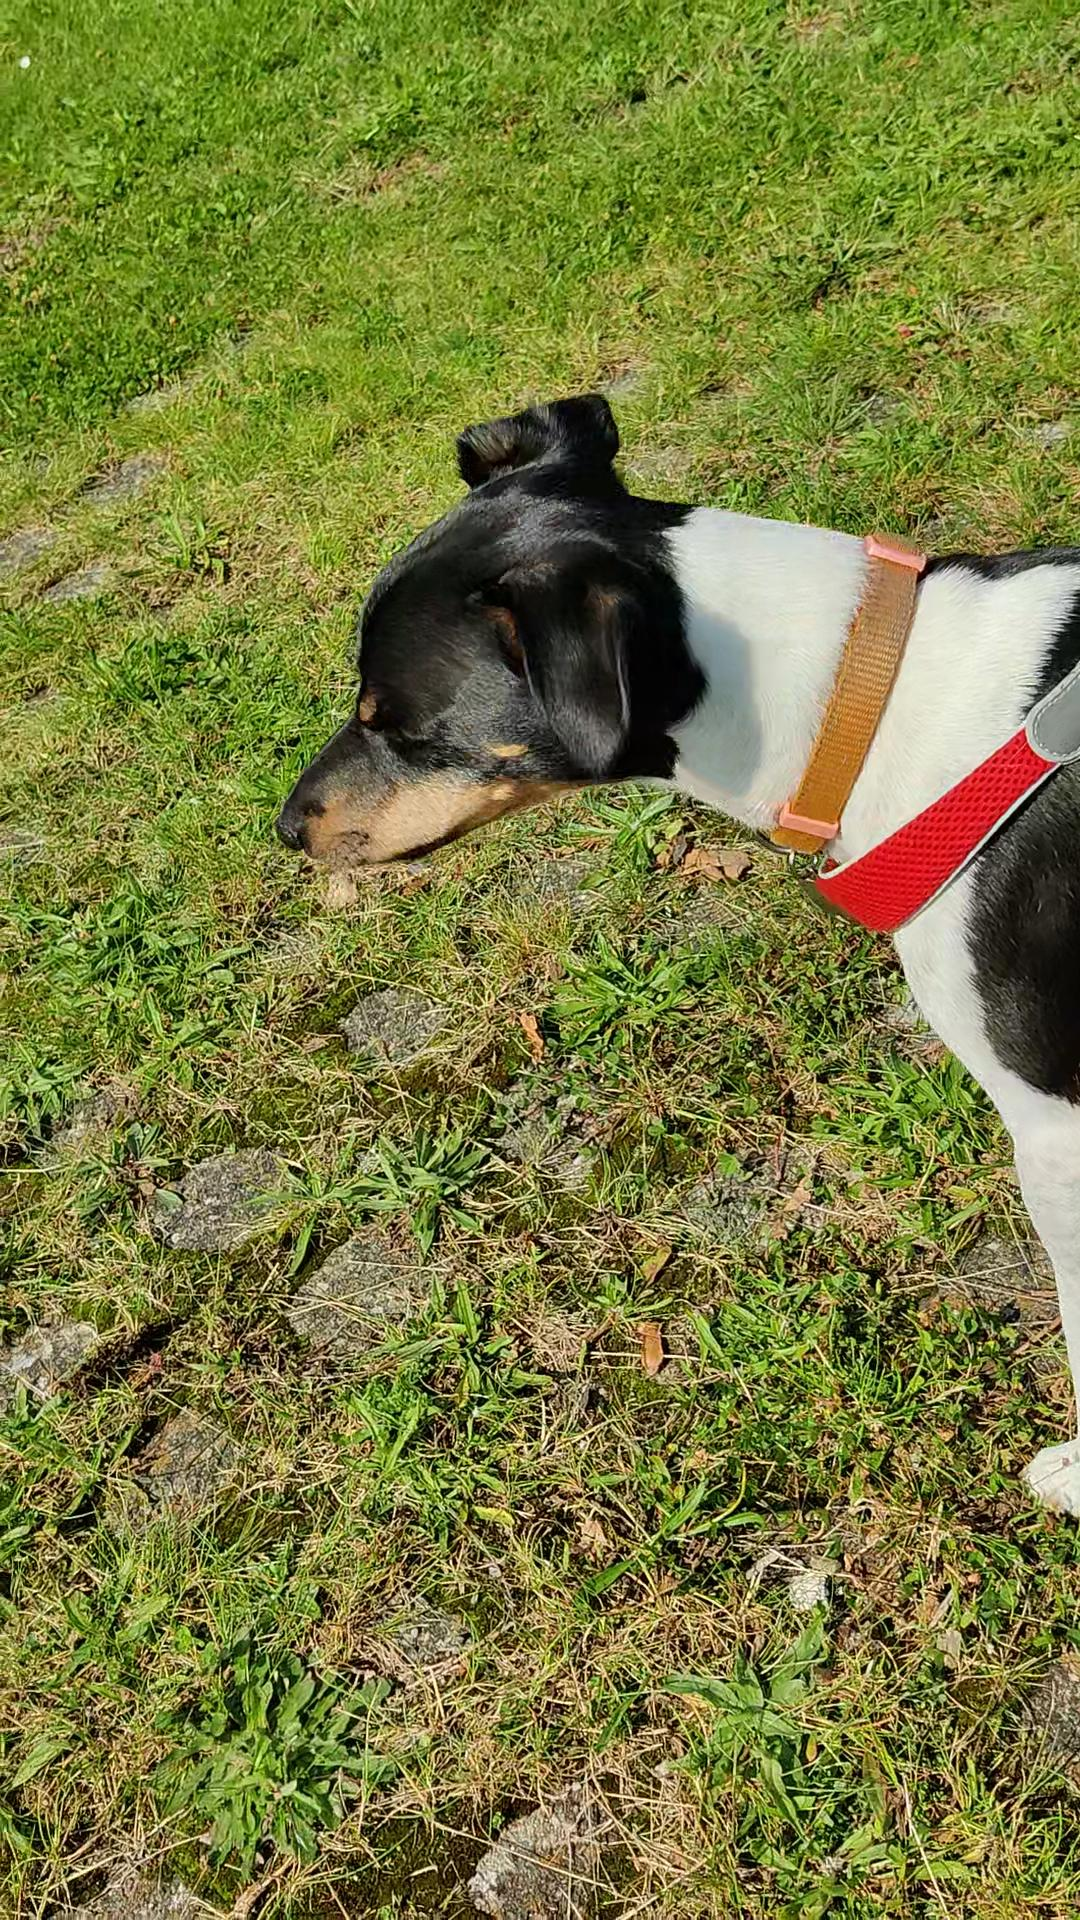Dog: (269, 386, 1079, 1522)
